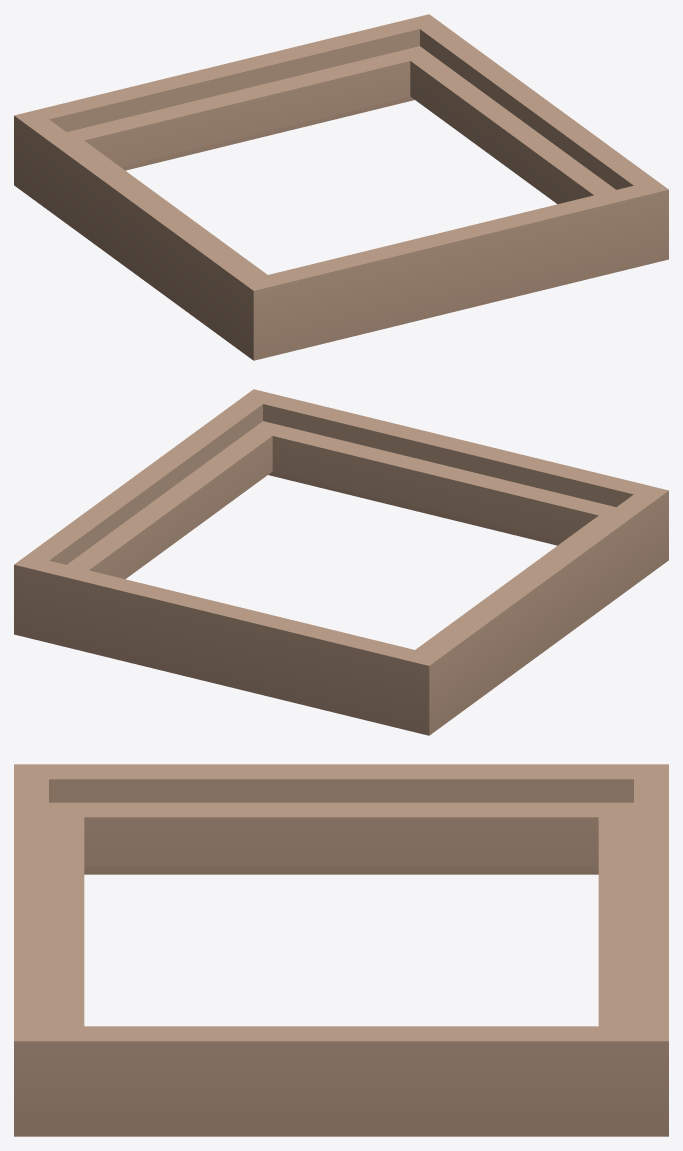
The model's file is roof-window 1.glb.
3 views of the same model, one above another, from view 1: azimuth 30°, elevation 25°; view 2: azimuth 150°, elevation 25°; view 3: azimuth 270°, elevation 25° (orthographic). The views are drawn at different scales.
Parts seen in each view (by area): view 1: roof-window 1; view 2: roof-window 1; view 3: roof-window 1.
Part boxes in pixels (x1,y1,x2,y2): roof-window 1: [14, 14, 668, 360]; roof-window 1: [14, 389, 668, 735]; roof-window 1: [14, 764, 668, 1136].
Size of the model in its own units: 0.9333 by 0.15 by 0.9333.
